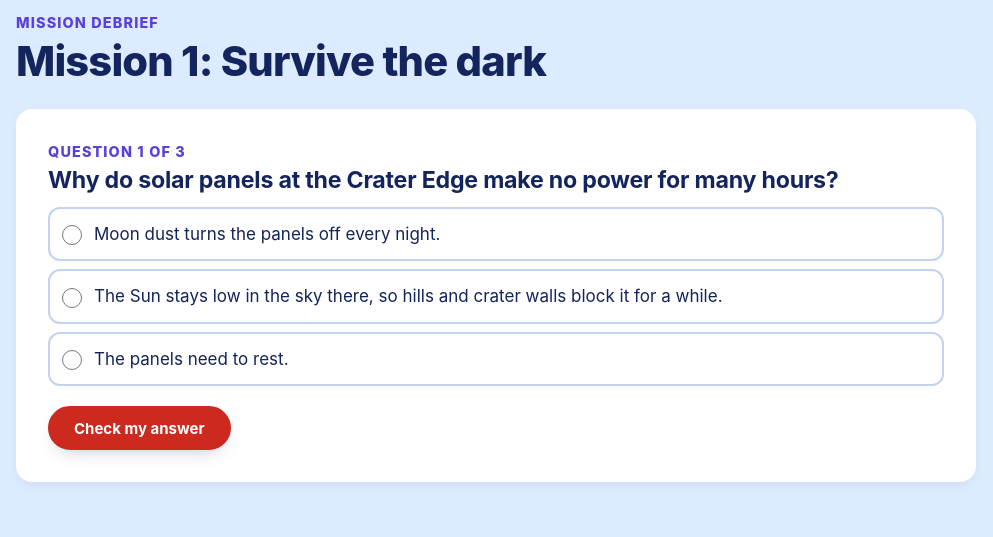
Debrief › asks for an answer before checking
The width and height of the screenshot is (993, 537).
Click the button "Check my answer" at (139, 428), box 48,406 -> 230,450
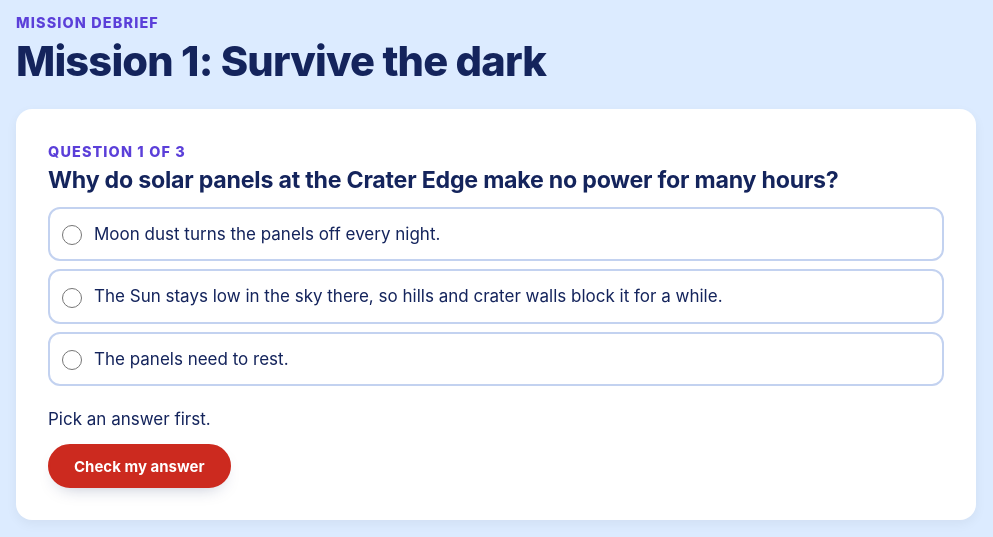
Check: the message reads "Pick an answer first.", box 48,409 -> 211,429
